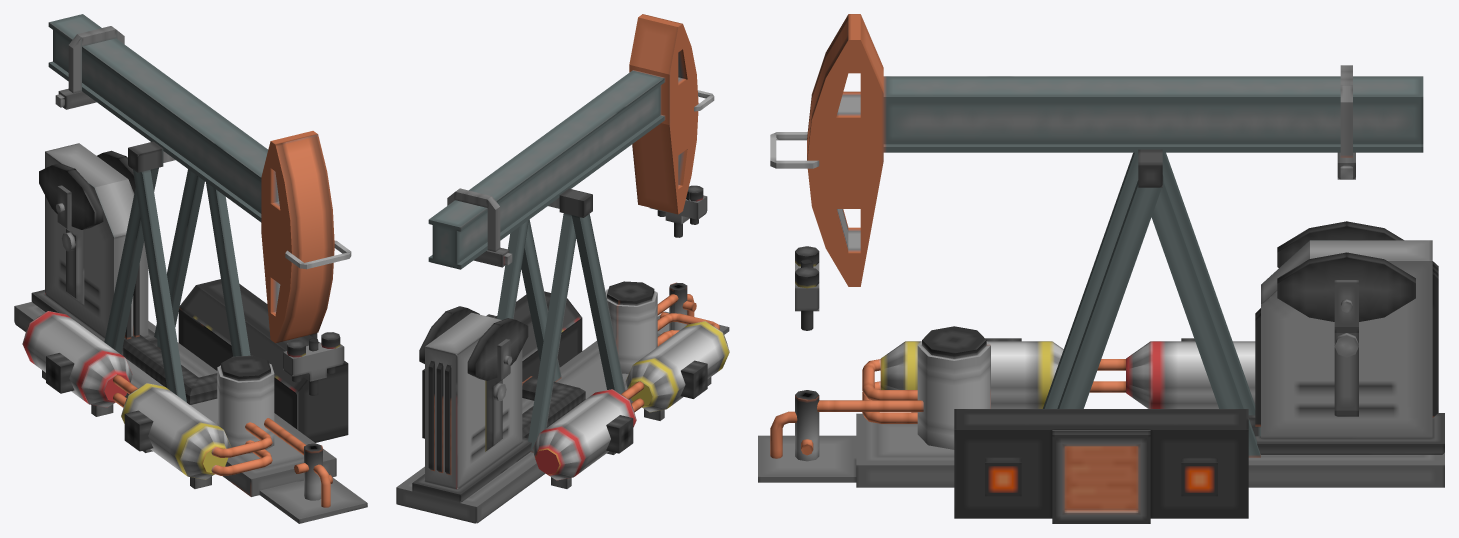
Rendered from pumpjack_item.obj.
The picture shows the model from 3 angles, left to right: view 1: azimuth 30°, elevation 25°; view 2: azimuth 150°, elevation 25°; view 3: azimuth 270°, elevation 25°; orthographic projection. The views are drawn at different scales.
Parts seen in each view (by area): view 1: Base, Head, Rotor, Carriage; view 2: Base, Head, Rotor, Carriage; view 3: Base, Head, Rotor, Carriage.
Part boxes in pixels (x1,y1,x2,y2): Base: (14,141,367,523); Head: (48,14,351,343); Rotor: (39,150,135,304); Carriage: (283,332,344,395); Base: (396,188,729,523); Head: (428,14,714,269); Rotor: (419,306,528,451); Carriage: (650,185,707,237); Base: (758,149,1444,523); Head: (770,14,1423,286); Rotor: (1277,221,1415,416); Carriage: (795,246,819,330).
Bounding box in the file's own units: 3 × 4.89 × 7.
